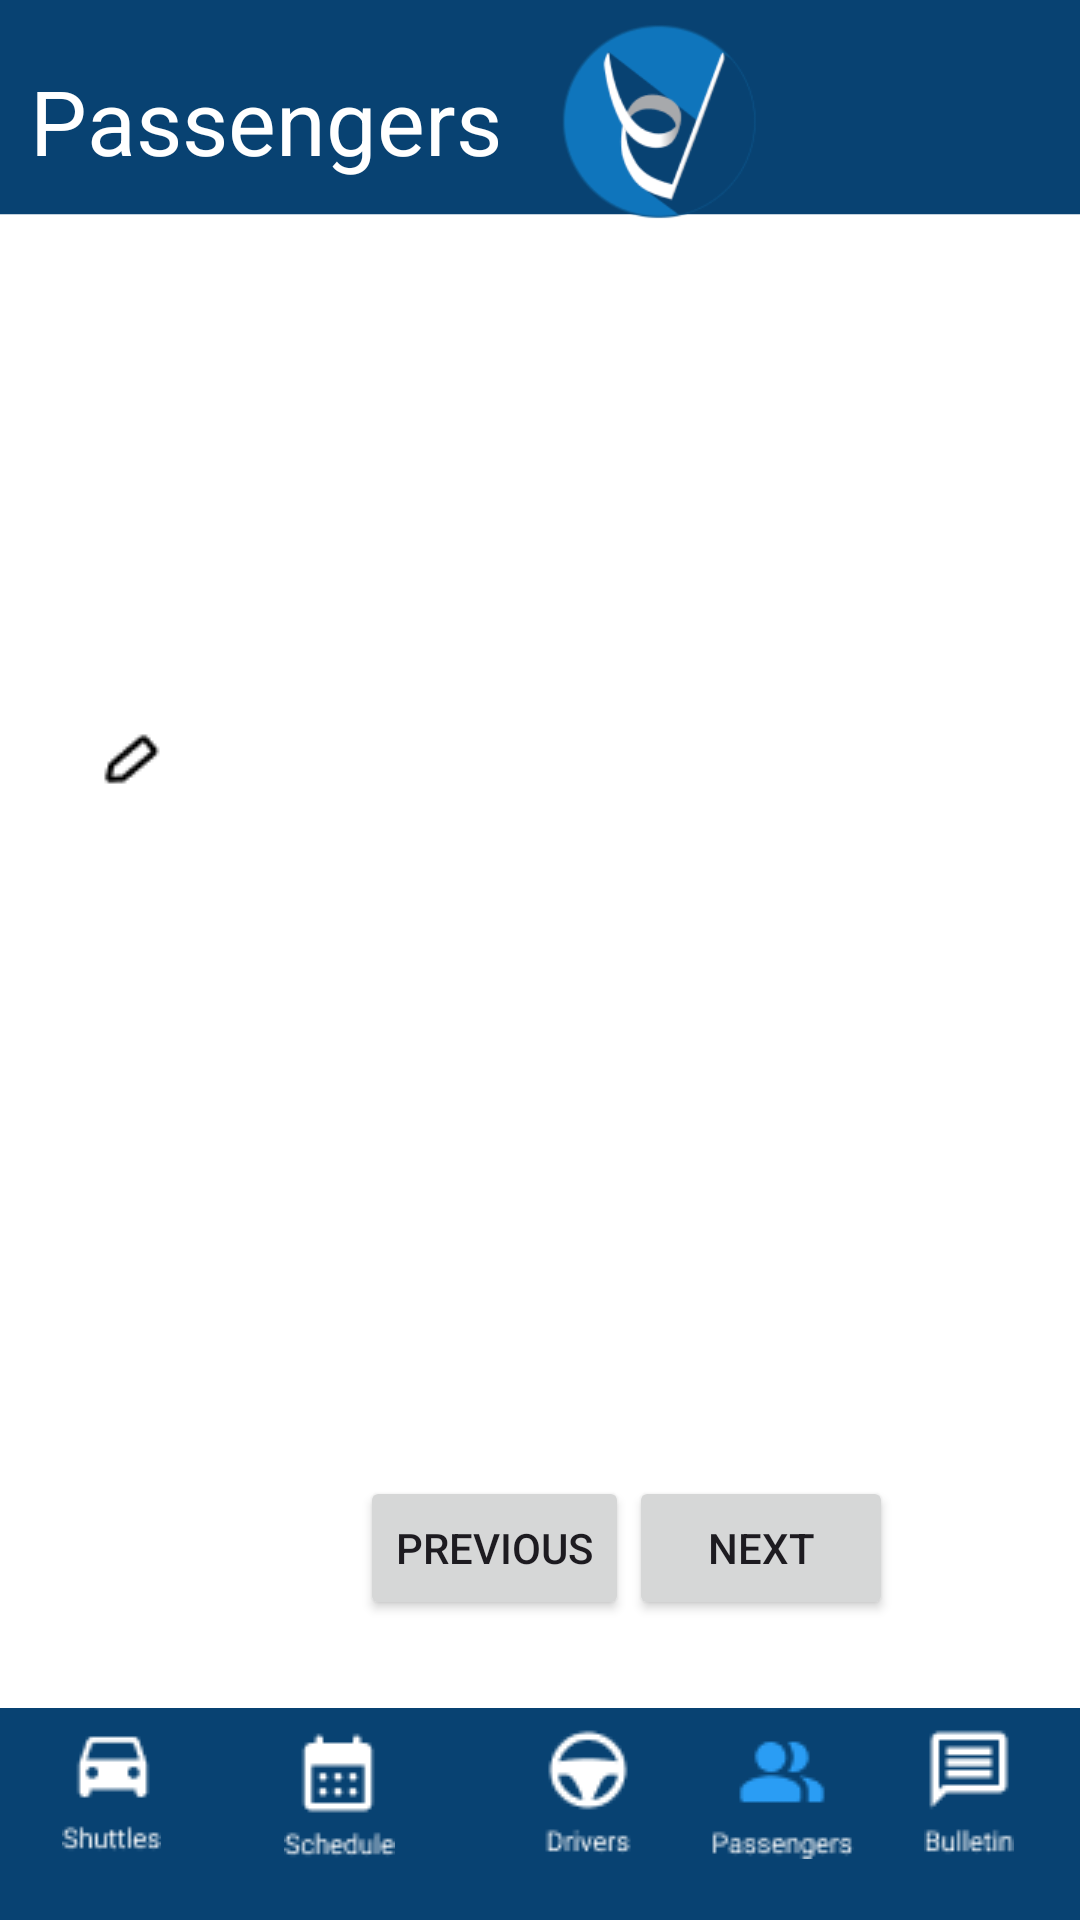

Icon click points for this 1080*1920 phone screenshot, format [x,y]:
edit3: [132,759]
